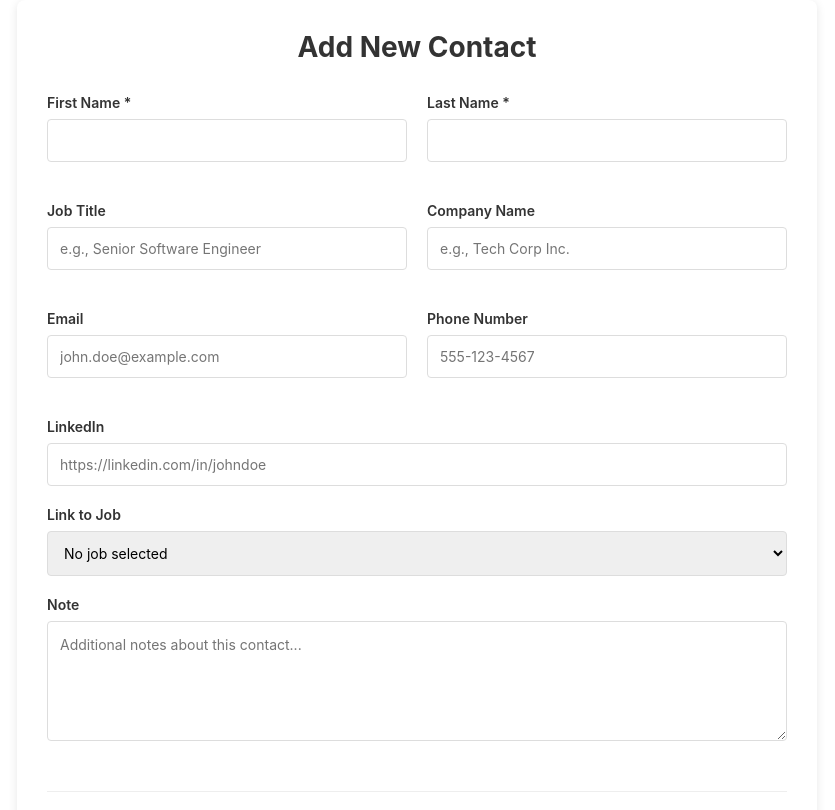
Test: ContactForm Component › Form Submission - Add Mode › handles submission error gracefully
In the field labelled "First Name *": (227, 140) [47,119,407,162], type "John"
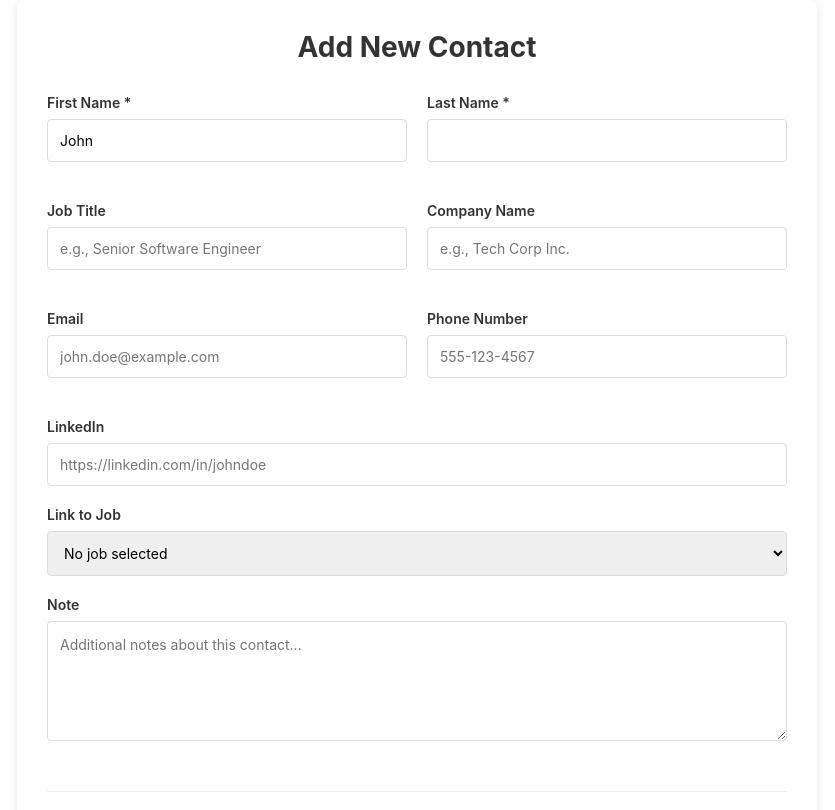
In the field labelled "Last Name *": (607, 140) [427,119,787,162], type "Doe"
(page scrolled)
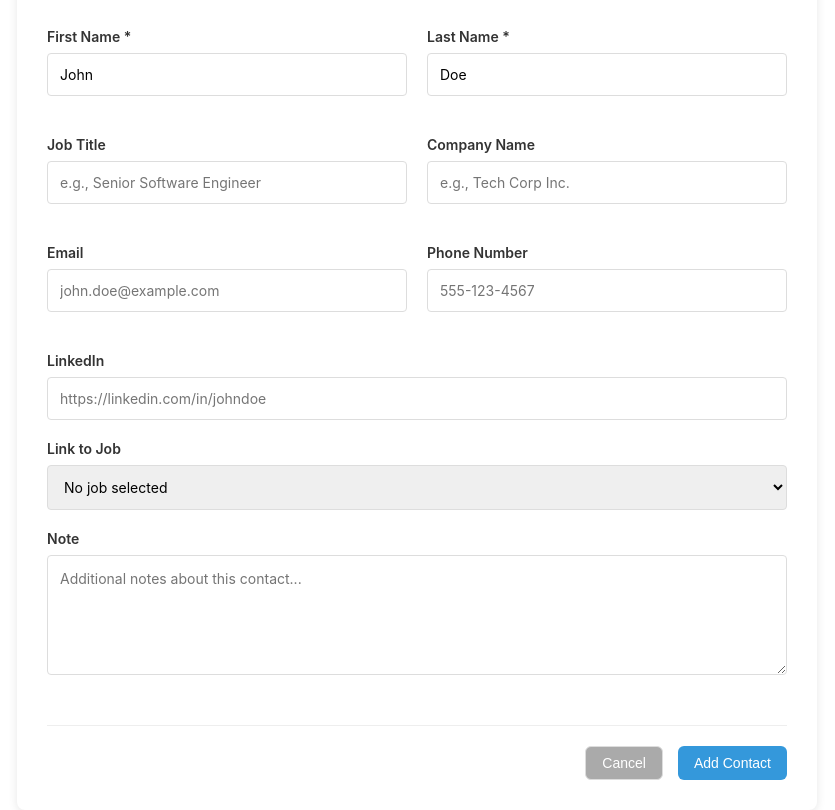
Click the button "Add Contact": (732, 763) [678,746,787,780]
(page scrolled)
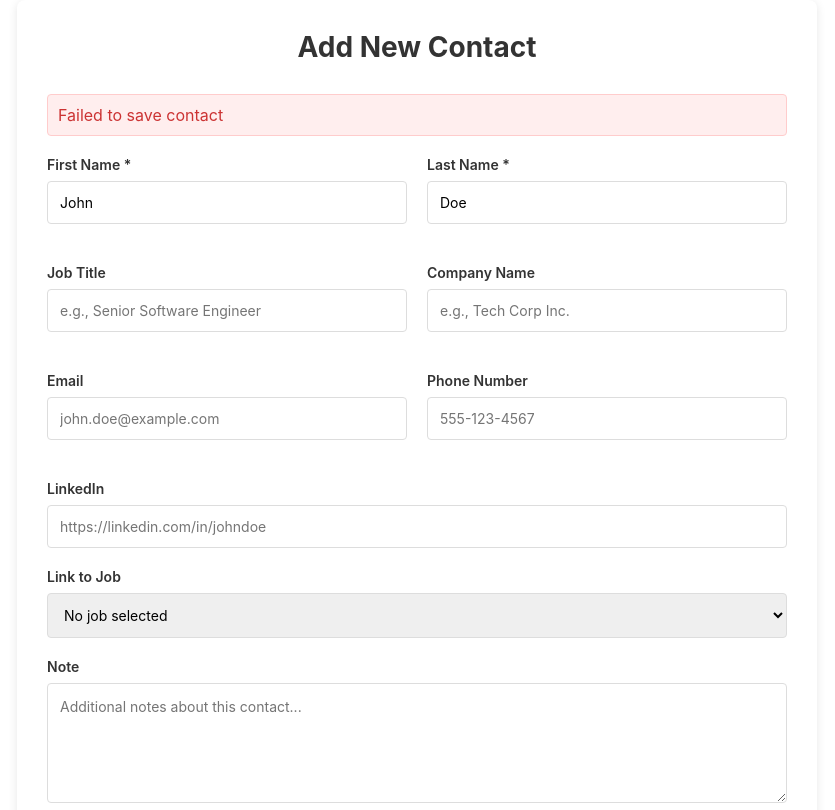
Check: the text "Failed to save contact" is shown, box [47,94,787,136]
